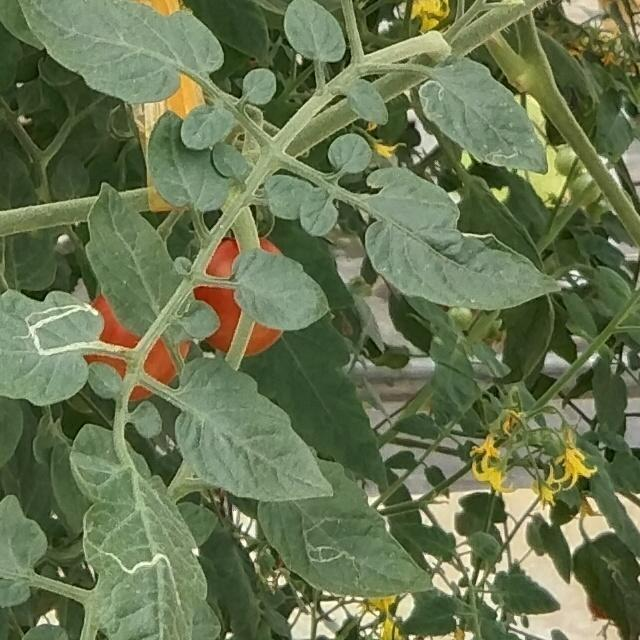Healthy: (363, 168, 564, 314), (173, 356, 336, 503), (19, 0, 223, 107), (87, 179, 184, 333), (229, 243, 330, 332), (145, 108, 229, 211), (283, 0, 346, 63)
Leaf_Miner: (257, 459, 437, 599), (82, 467, 209, 640), (414, 56, 551, 176), (0, 285, 107, 405)
